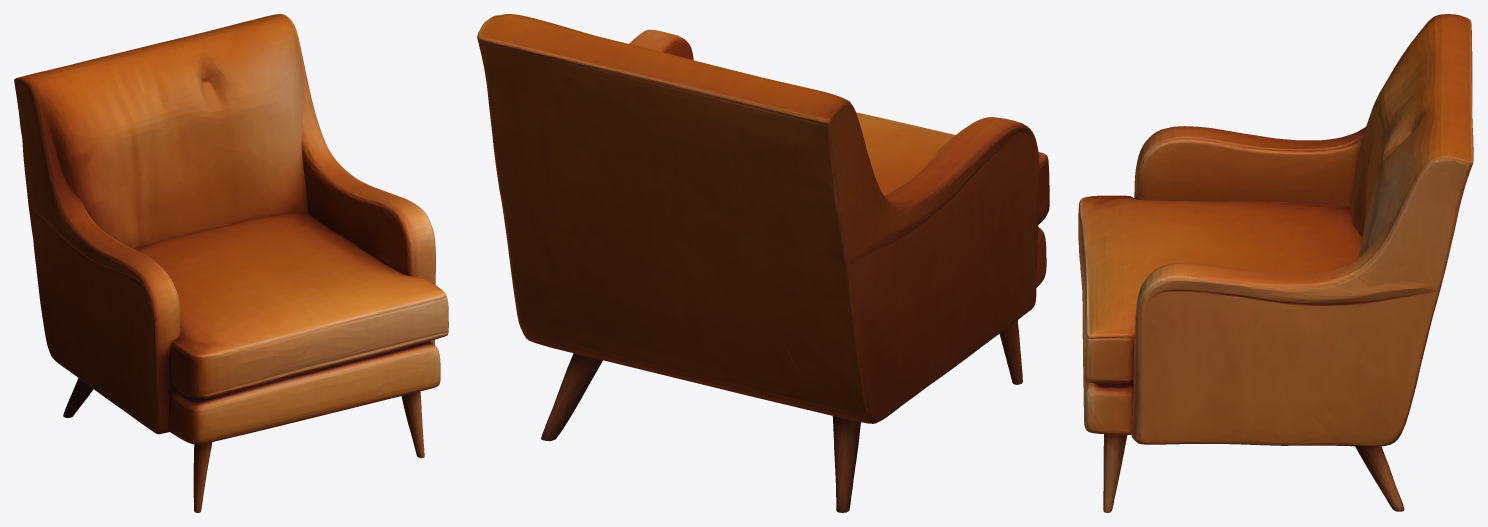
File: chair.glb
3 renders of one model, left to right at view 1: azimuth 30°, elevation 25°; view 2: azimuth 150°, elevation 25°; view 3: azimuth 270°, elevation 25°, orthographic. The views are drawn at different scales.
Visible parts, largest first — view 1: geometry_0; view 2: geometry_0; view 3: geometry_0.
Part boxes in pixels (x1,y1,x2,y2): geometry_0: (14, 14, 448, 512); geometry_0: (477, 14, 1049, 512); geometry_0: (1078, 14, 1473, 512).
Bounding box in the file's own units: 0.9015 × 0.9975 × 0.9732.
1 material, 1 textured.
